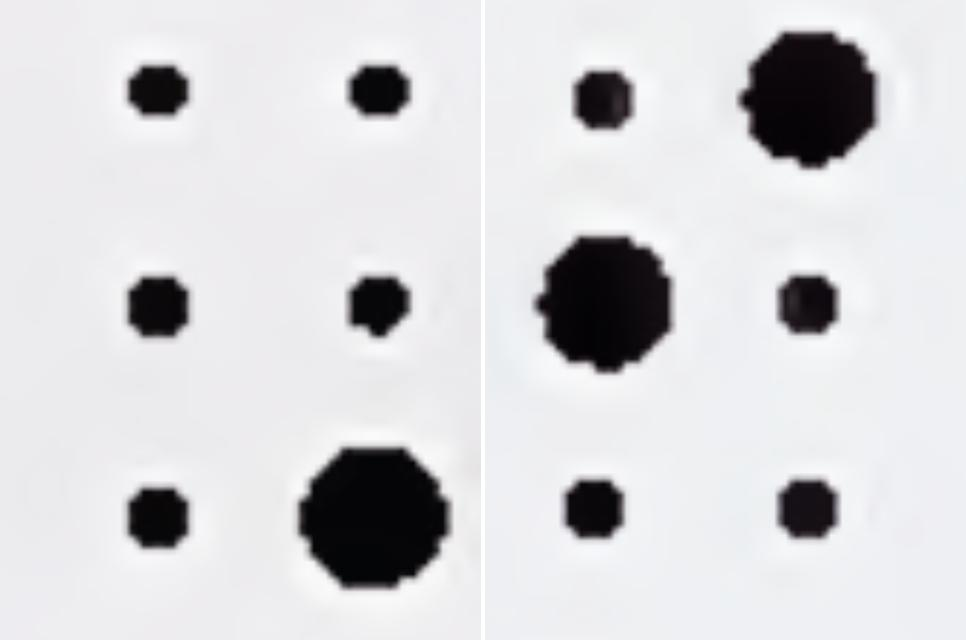I: (540, 29, 878, 544)
capital: (122, 55, 448, 586)
